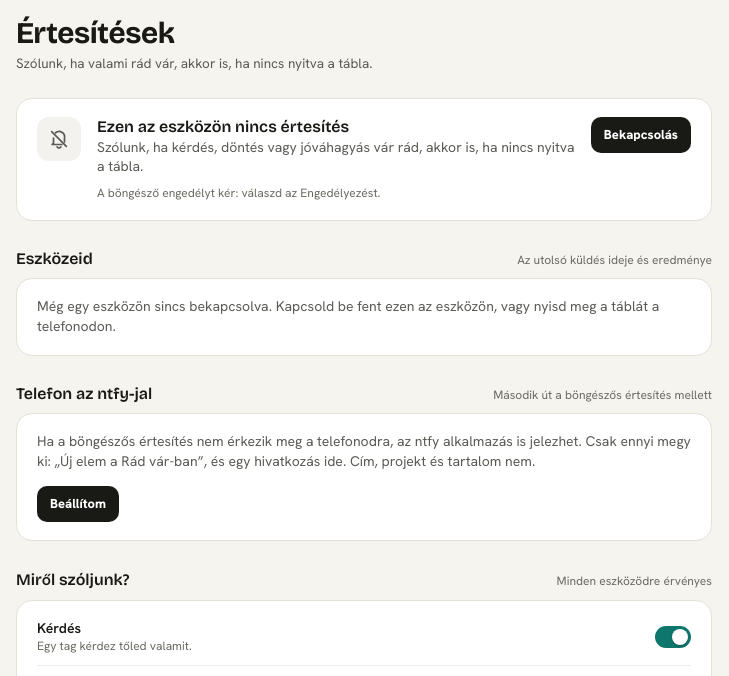
Scenario: this device › does not subscribe when the person refuses the prompt, and then shows how to allow it
This screenshot has width=729, height=676.
What coordinates should you click on to do the following:
click the button "Bekapcsolás"
I would click on:
 (641, 135)
Its box is [591,117,691,153].
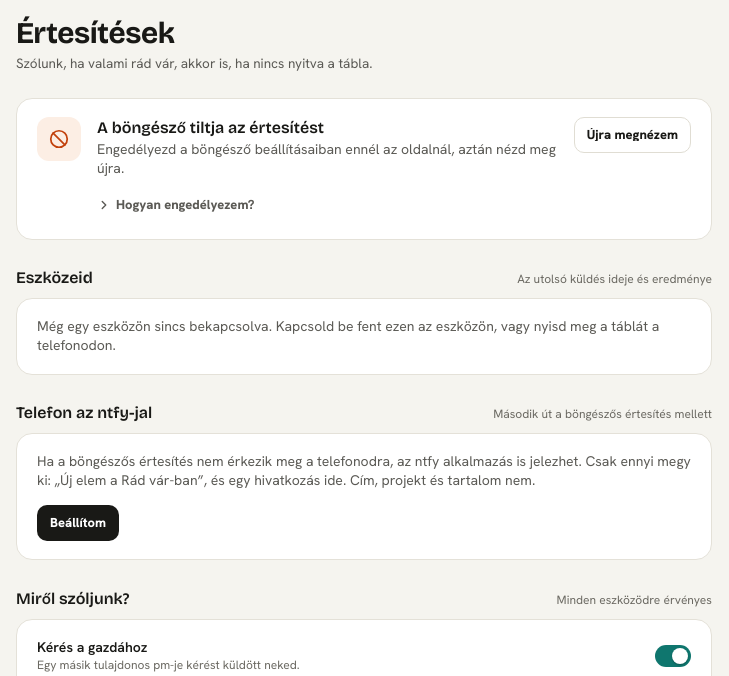
Result: the text "A böngésző tiltja az értesítést" is shown at [97,118,324,137]
